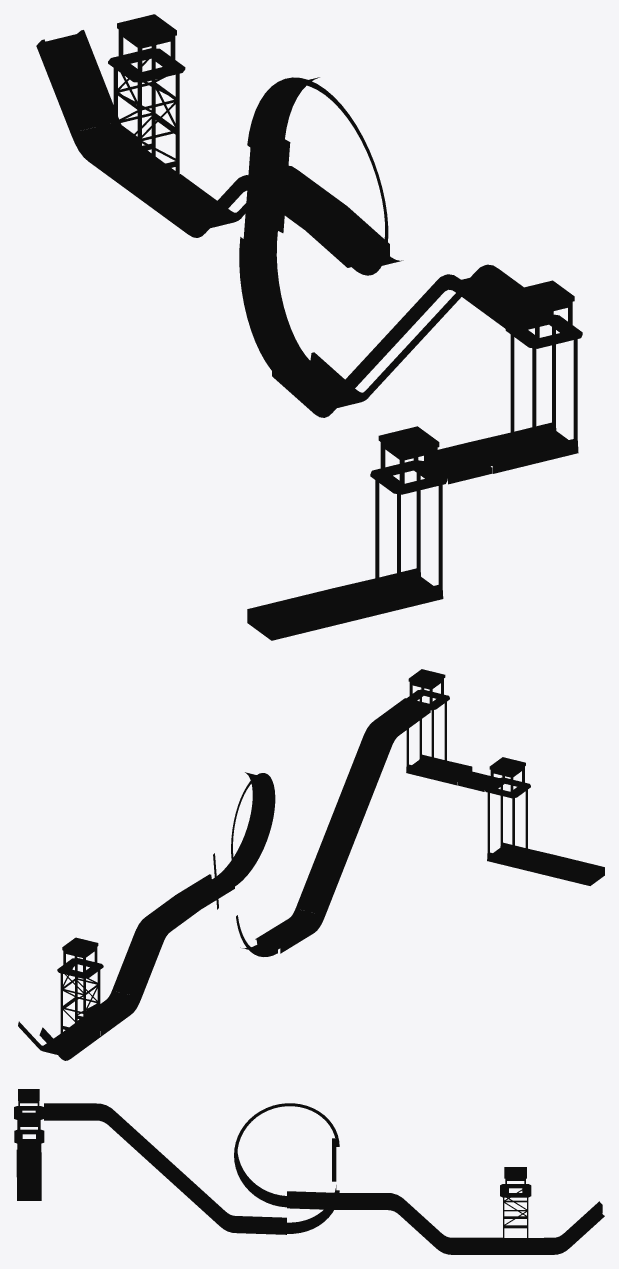
The model's file is Chunk9.obj.
3 views of the same model, one above another, from view 1: azimuth 30°, elevation 25°; view 2: azimuth 150°, elevation 25°; view 3: azimuth 270°, elevation 25° (orthographic). The views are drawn at different scales.
Size of the model in its own units: 873 by 590 by 2236.
